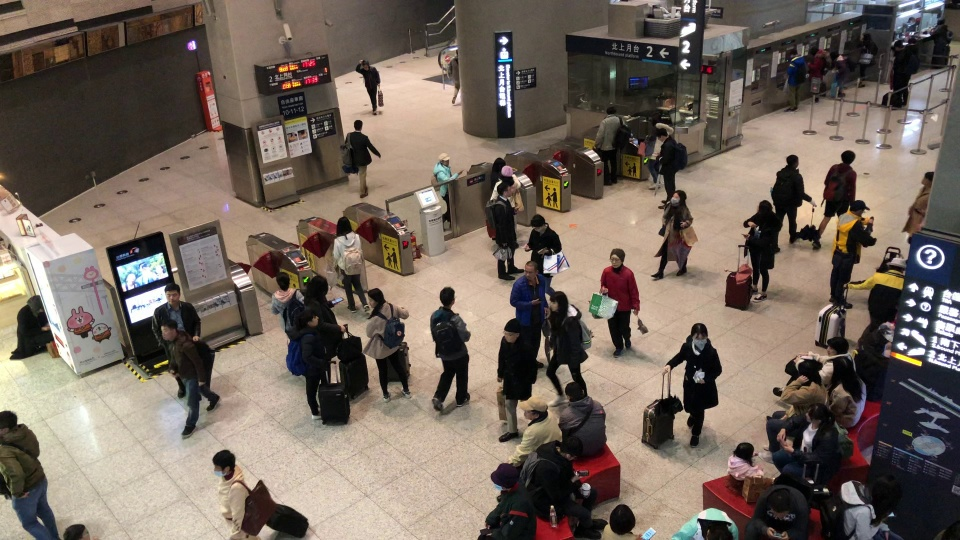person_head: (871, 473, 901, 511), (609, 503, 635, 535), (491, 462, 518, 490), (804, 402, 834, 426), (212, 448, 236, 477), (518, 396, 547, 420), (768, 488, 790, 518), (798, 360, 822, 385), (833, 357, 855, 384), (559, 437, 584, 460), (306, 275, 329, 299), (296, 306, 320, 329), (826, 335, 849, 357), (502, 316, 521, 342), (690, 322, 709, 347), (0, 410, 18, 436), (63, 523, 90, 540), (159, 319, 178, 342), (564, 381, 585, 401), (734, 441, 754, 462), (549, 290, 568, 312), (438, 285, 456, 308), (366, 286, 384, 308), (705, 525, 732, 539), (164, 283, 181, 303), (335, 215, 352, 235), (849, 199, 869, 216), (275, 270, 291, 291), (529, 213, 546, 231), (27, 294, 43, 313), (609, 248, 625, 267), (670, 189, 688, 205), (524, 260, 538, 280), (887, 257, 907, 271), (496, 181, 513, 197), (840, 149, 856, 165), (756, 198, 771, 215), (492, 157, 505, 175), (921, 170, 934, 188), (655, 127, 669, 142), (784, 153, 799, 167), (438, 151, 450, 165), (501, 165, 513, 178), (650, 113, 663, 125), (605, 104, 617, 116), (353, 118, 363, 131), (860, 31, 872, 41), (893, 40, 903, 50), (810, 46, 820, 55), (789, 48, 798, 57), (936, 16, 945, 25), (831, 49, 839, 59), (362, 59, 369, 70), (456, 49, 458, 55)
person_vbox: (519, 437, 607, 540), (0, 409, 60, 540), (756, 359, 830, 464), (158, 318, 222, 438), (663, 322, 723, 449), (764, 355, 866, 429), (770, 402, 853, 483), (211, 447, 277, 540), (361, 287, 413, 403), (151, 283, 202, 401), (818, 472, 904, 540), (545, 291, 593, 407), (493, 317, 537, 443), (772, 335, 857, 397), (283, 305, 328, 422), (429, 286, 470, 413), (508, 261, 556, 369), (829, 199, 876, 309), (810, 149, 857, 249), (477, 462, 537, 540), (744, 471, 811, 540), (598, 248, 640, 358), (771, 154, 817, 252), (843, 257, 906, 328), (279, 276, 346, 341), (504, 395, 562, 466), (484, 181, 525, 281), (742, 199, 781, 304), (650, 189, 693, 280), (557, 381, 607, 459), (332, 215, 370, 315), (522, 214, 563, 296), (339, 119, 381, 198), (592, 104, 631, 186), (430, 148, 464, 232), (489, 164, 526, 241), (9, 294, 52, 360), (655, 127, 688, 210), (900, 169, 934, 244), (644, 112, 674, 189), (269, 271, 305, 334), (669, 507, 738, 539), (891, 40, 921, 108), (783, 46, 809, 113), (726, 440, 764, 483), (604, 503, 648, 539), (807, 44, 831, 105), (355, 59, 381, 115), (855, 31, 878, 89), (831, 48, 855, 98), (447, 48, 460, 105), (929, 16, 953, 45)
